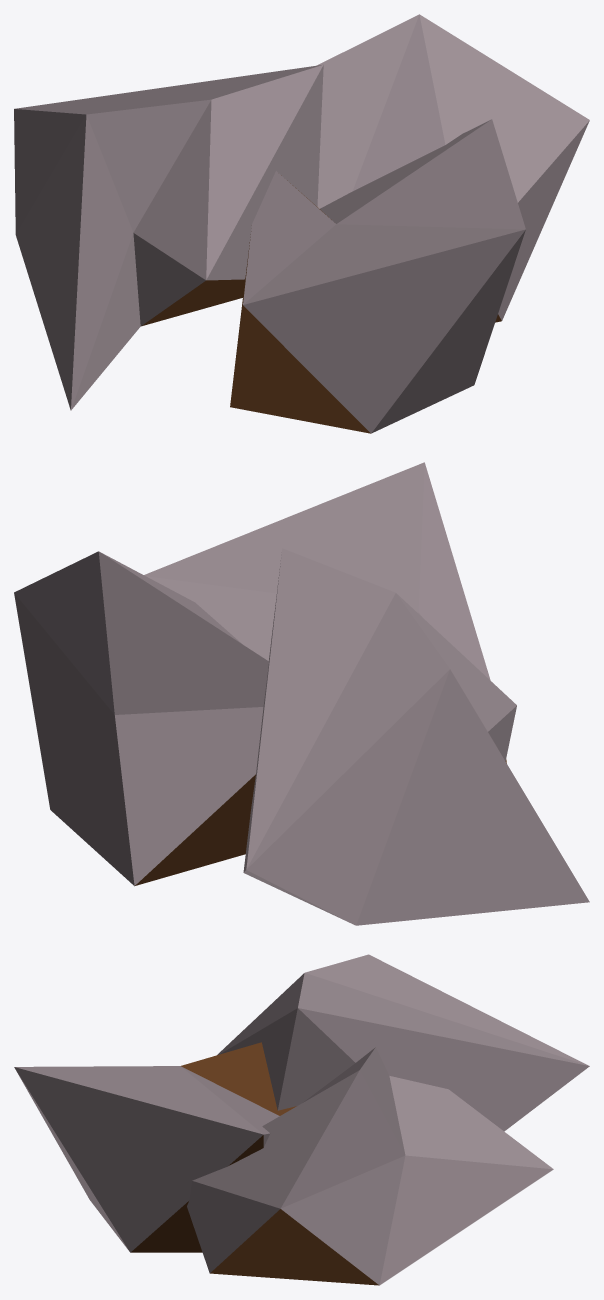
The model's file is Metal.fbx.
3 renders of one model, top to bottom at view 1: azimuth 30°, elevation 25°; view 2: azimuth 150°, elevation 25°; view 3: azimuth 270°, elevation 25°, orthographic. The views are drawn at different scales.
Visible parts, largest first — view 1: Icosphere; view 2: Icosphere; view 3: Icosphere.
Boxes of the visible parts, x1,y1,x2,y2 form: Icosphere: (14, 14, 589, 433); Icosphere: (14, 462, 589, 925); Icosphere: (14, 954, 589, 1285).
Bounding box in the file's own units: 412 × 223 × 460.
